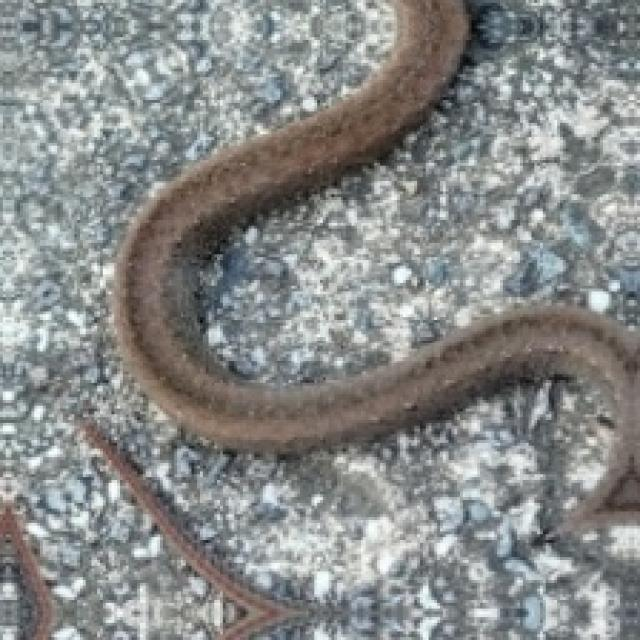reinhardts lined snake: (111, 0, 637, 531), (82, 418, 309, 639), (0, 501, 49, 639)
